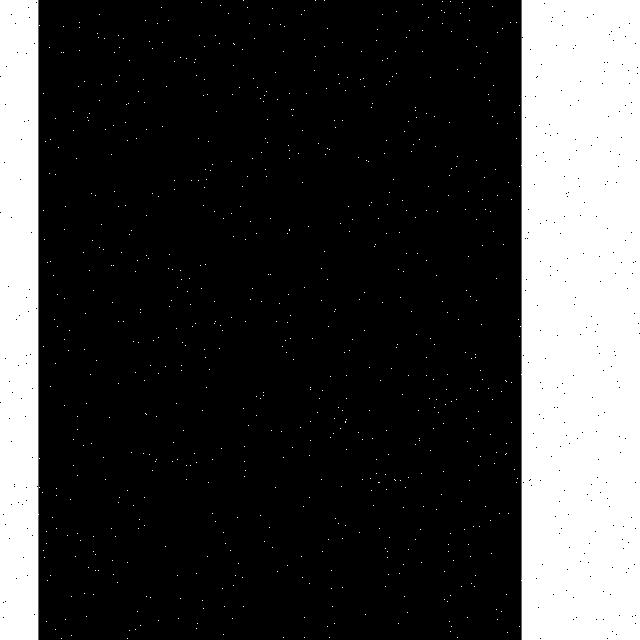Sweet_Potato: (40, 0, 523, 640)
